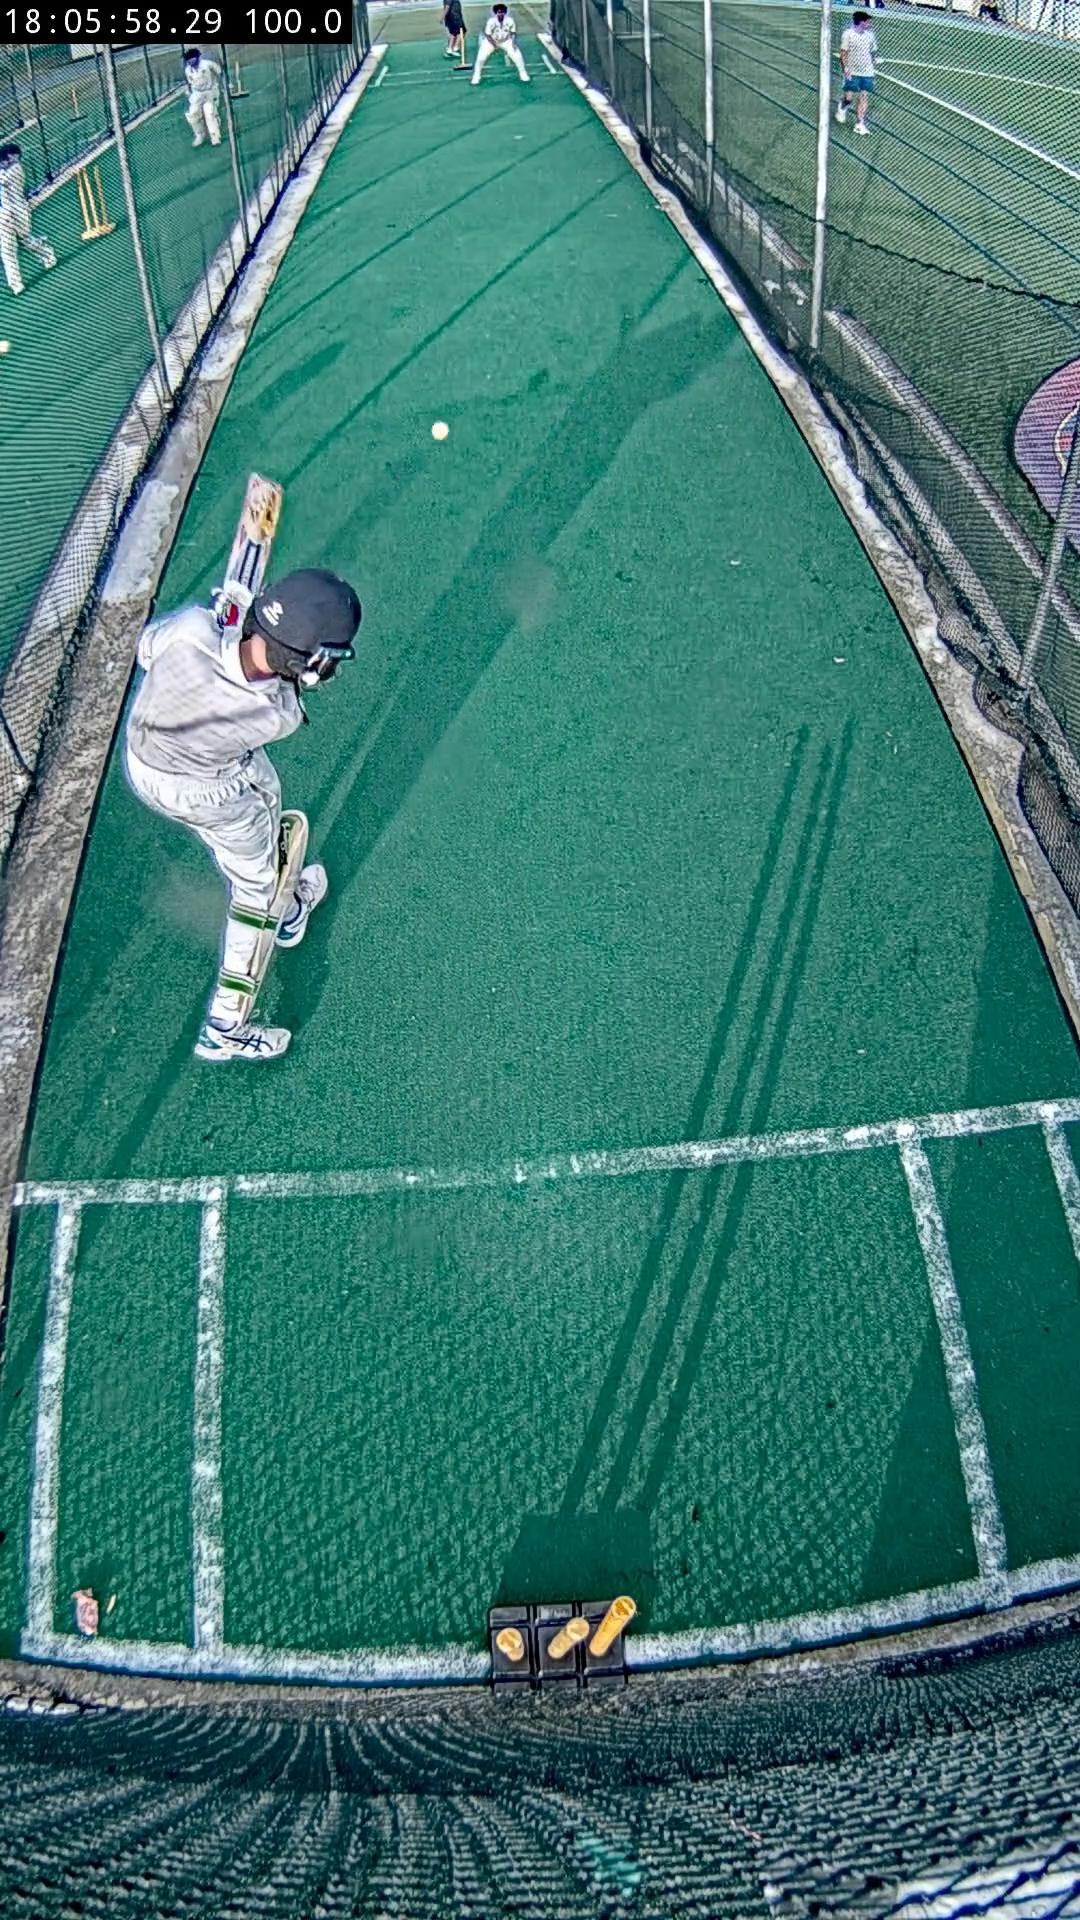ball: (431, 419, 450, 440)
bat: (225, 472, 285, 592)
gloves: (214, 582, 252, 626)
helmet: (248, 566, 360, 690)
pads: (240, 810, 311, 1022)
stumps: (488, 1594, 637, 1688)
